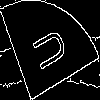U: (25, 25, 69, 77)
